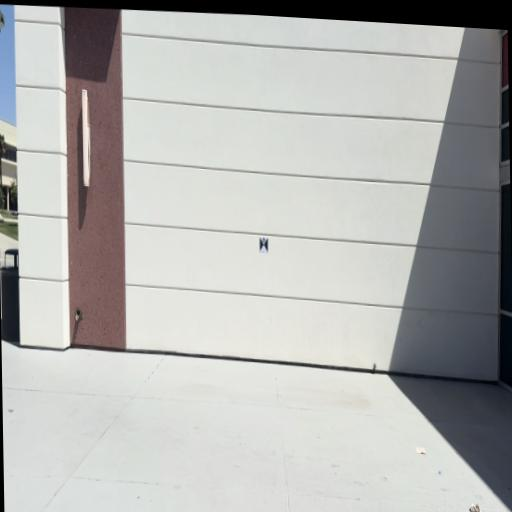target0: (260, 236, 268, 253)
